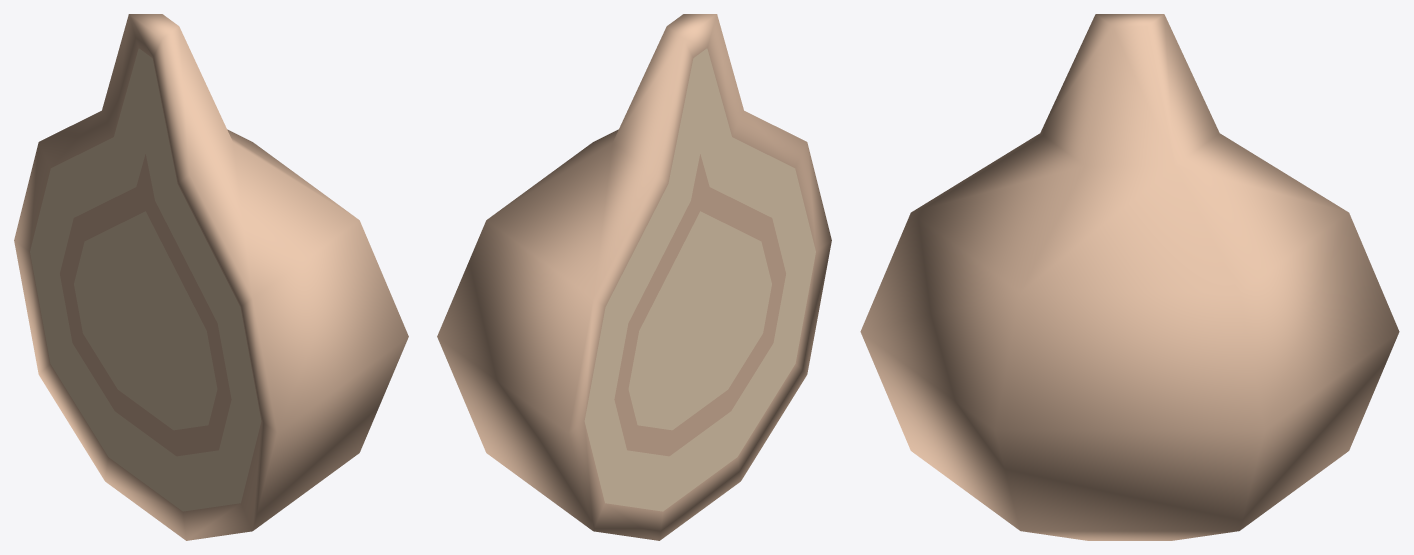
Rendered from onionHalf.glb.
The picture shows the model from 3 angles, left to right: view 1: azimuth 30°, elevation 25°; view 2: azimuth 150°, elevation 25°; view 3: azimuth 270°, elevation 25°; orthographic projection. The views are drawn at different scales.
Visible parts, largest first — view 1: onionHalf; view 2: onionHalf; view 3: onionHalf.
Boxes of the visible parts, x1,y1,x2,y2 form: onionHalf: (14,14,408,540); onionHalf: (437,14,831,540); onionHalf: (860,14,1399,540).
Size of the model in its own units: 0.1065 by 0.25 by 0.246.
